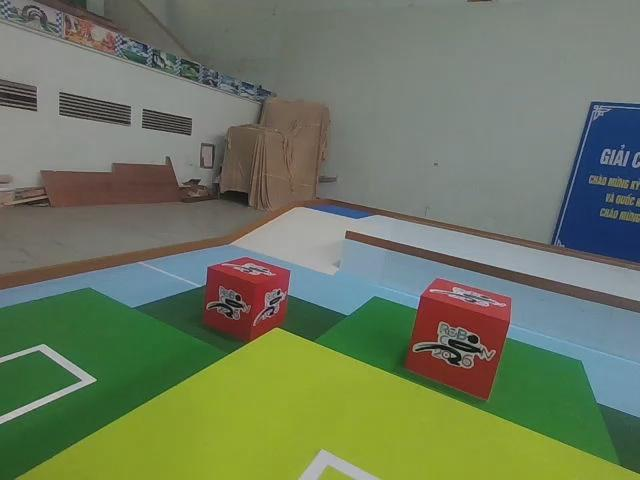R1: (401, 274, 515, 403), (199, 255, 294, 347)
